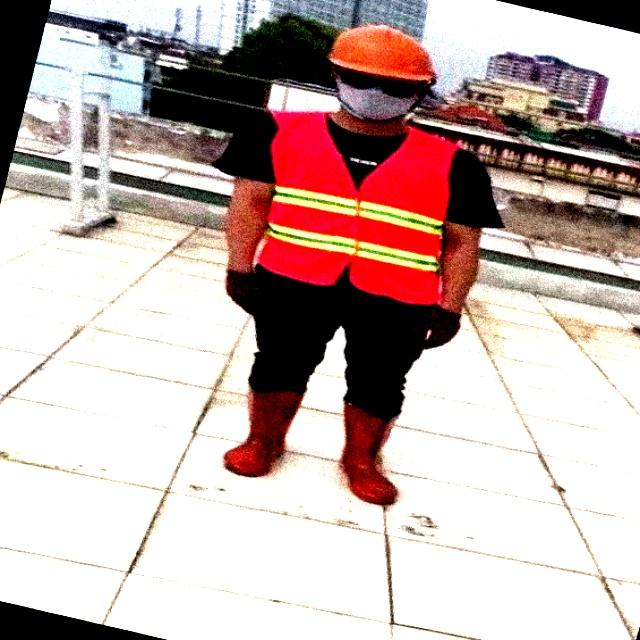Capacete: (328, 25, 436, 82)
Colete: (257, 112, 458, 304)
Oculos: (338, 69, 423, 97)
